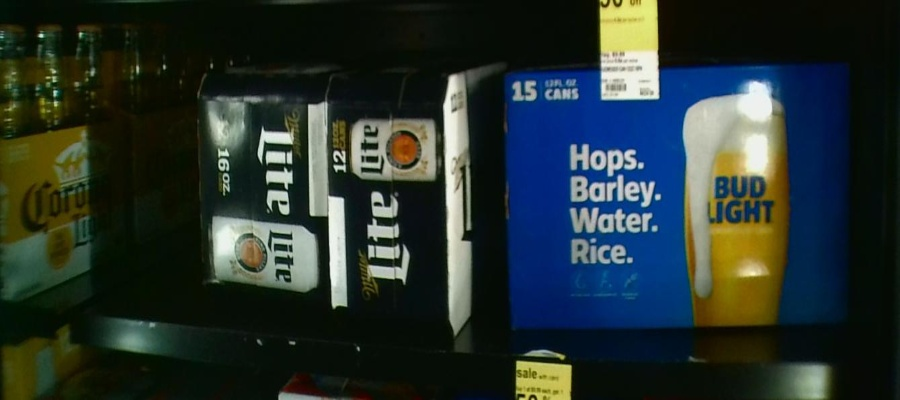bottle: (503, 63, 854, 324), (328, 67, 473, 337), (196, 64, 327, 301)
